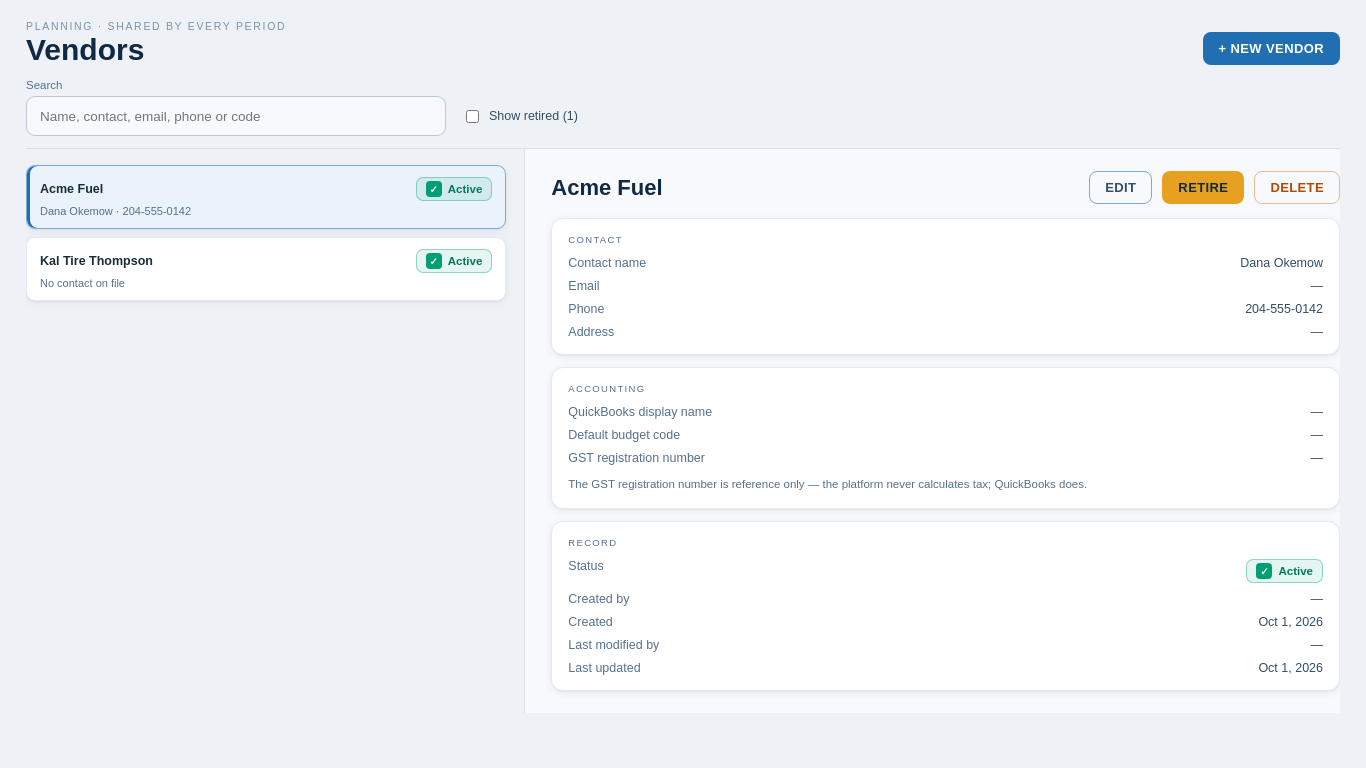
Scenario: Vendors screen › asks for the whole register once and hides retired vendors until asked
Expected: the text "Old Hardware Co" is not shown
Click the checkbox labelled "Show retired (1)" at (472, 116), box [466, 110, 479, 122]
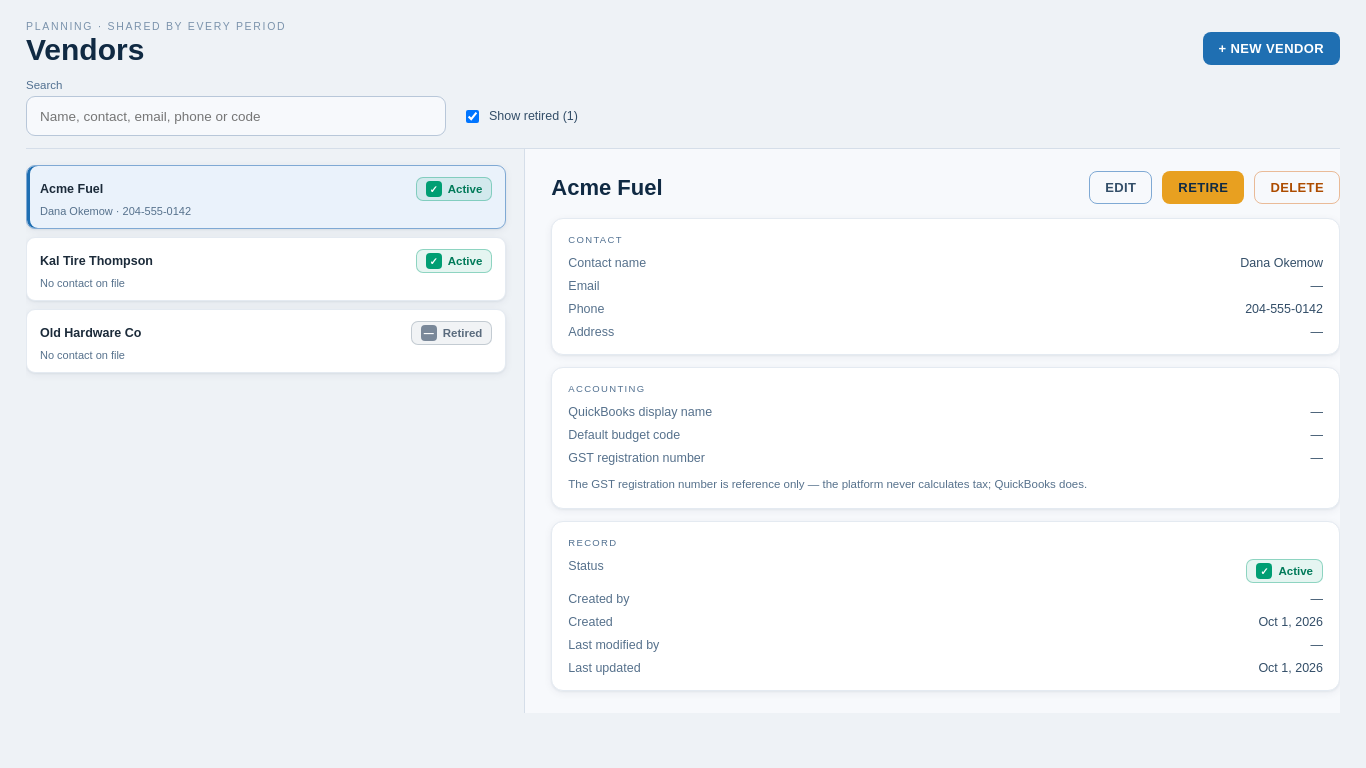
Expected: the 1st text "Active" is shown, [448, 183, 482, 195]
Result: the text "Old Hardware Co" is shown at [40, 326, 141, 340]
Result: the text "Retired" is shown at [443, 327, 482, 339]
